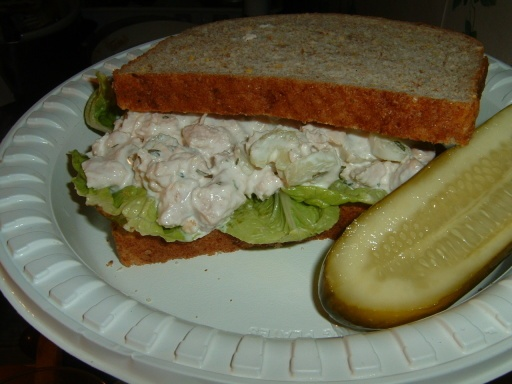background: (57, 7, 409, 199)
